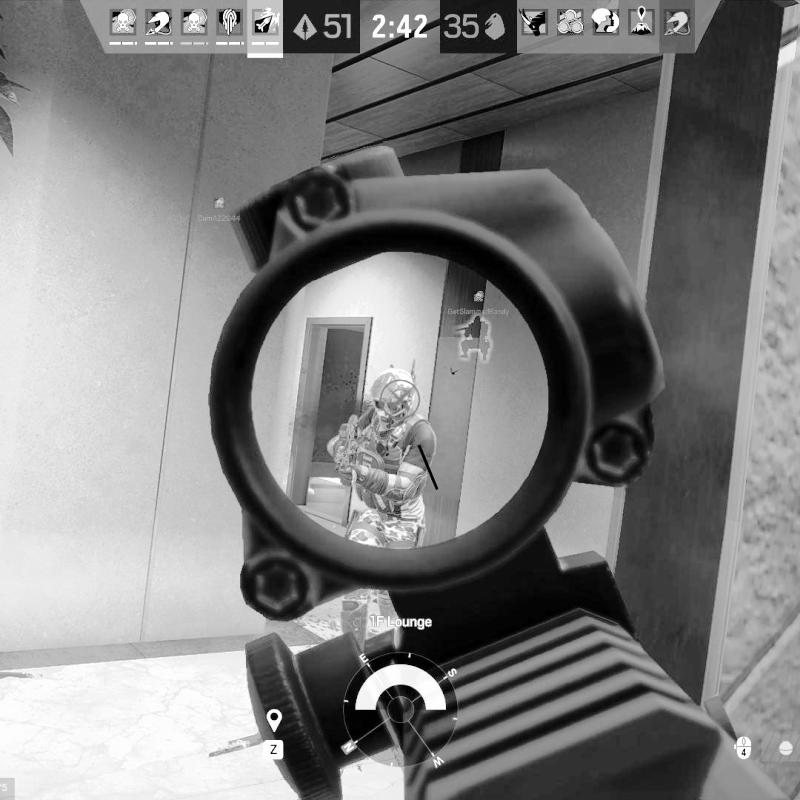Character: (323, 362, 440, 633)
Friend_label: (447, 290, 512, 318), (197, 196, 244, 224)
Head: (368, 368, 421, 423)
